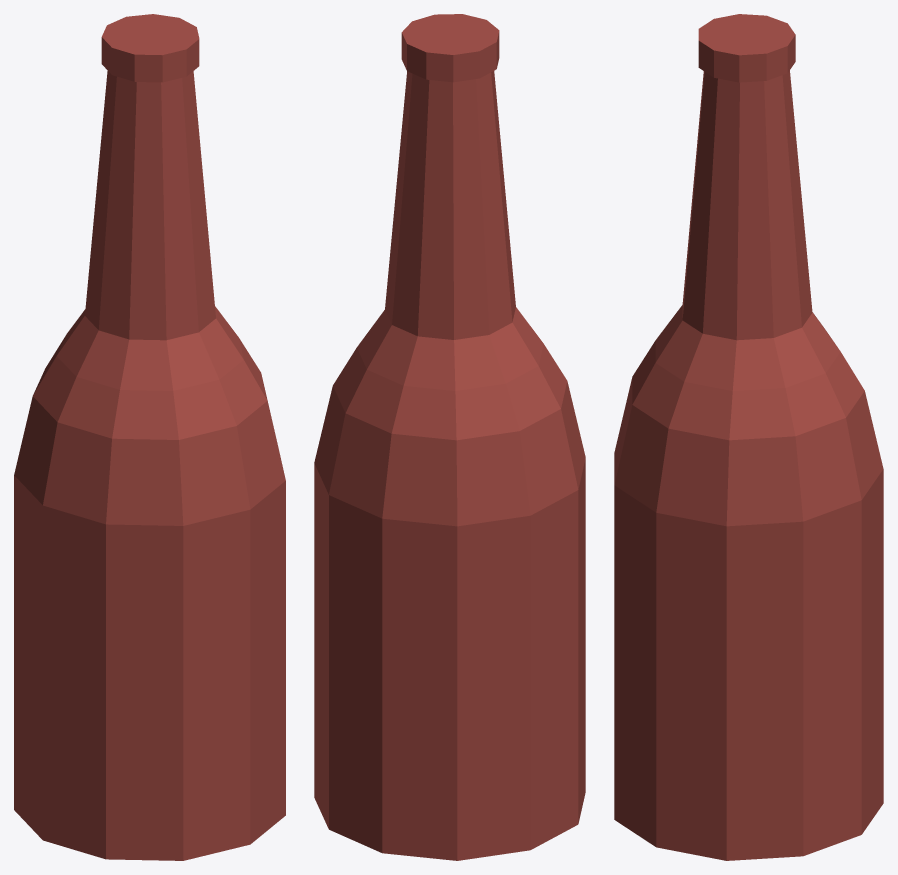
The model's file is tavern-bottle-red.glb.
3 renders of one model, left to right at view 1: azimuth 30°, elevation 25°; view 2: azimuth 150°, elevation 25°; view 3: azimuth 270°, elevation 25°, orthographic.
Parts seen in each view (by area): view 1: Object_2; view 2: Object_2; view 3: Object_2.
Boxes of the visible parts, x1=… form: Object_2: x1=14, y1=14, x2=285, y2=860; Object_2: x1=314, y1=14, x2=585, y2=860; Object_2: x1=614, y1=14, x2=883, y2=860.
Size of the model in its own units: 1.98 by 6.18 by 1.96.
